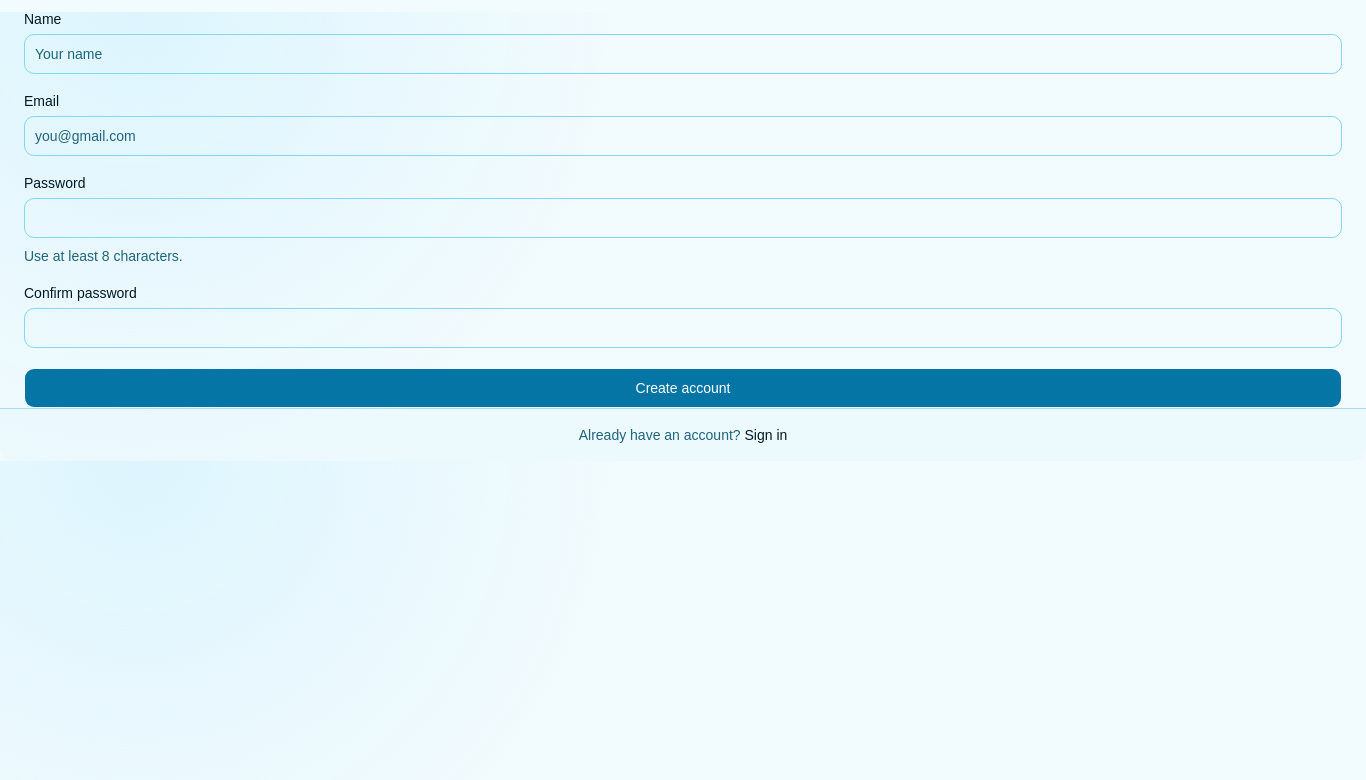
Test: AuthForm › Register mode › validates required name field
Click the button "Create account".
click(683, 388)  # box [24,368,1342,408]
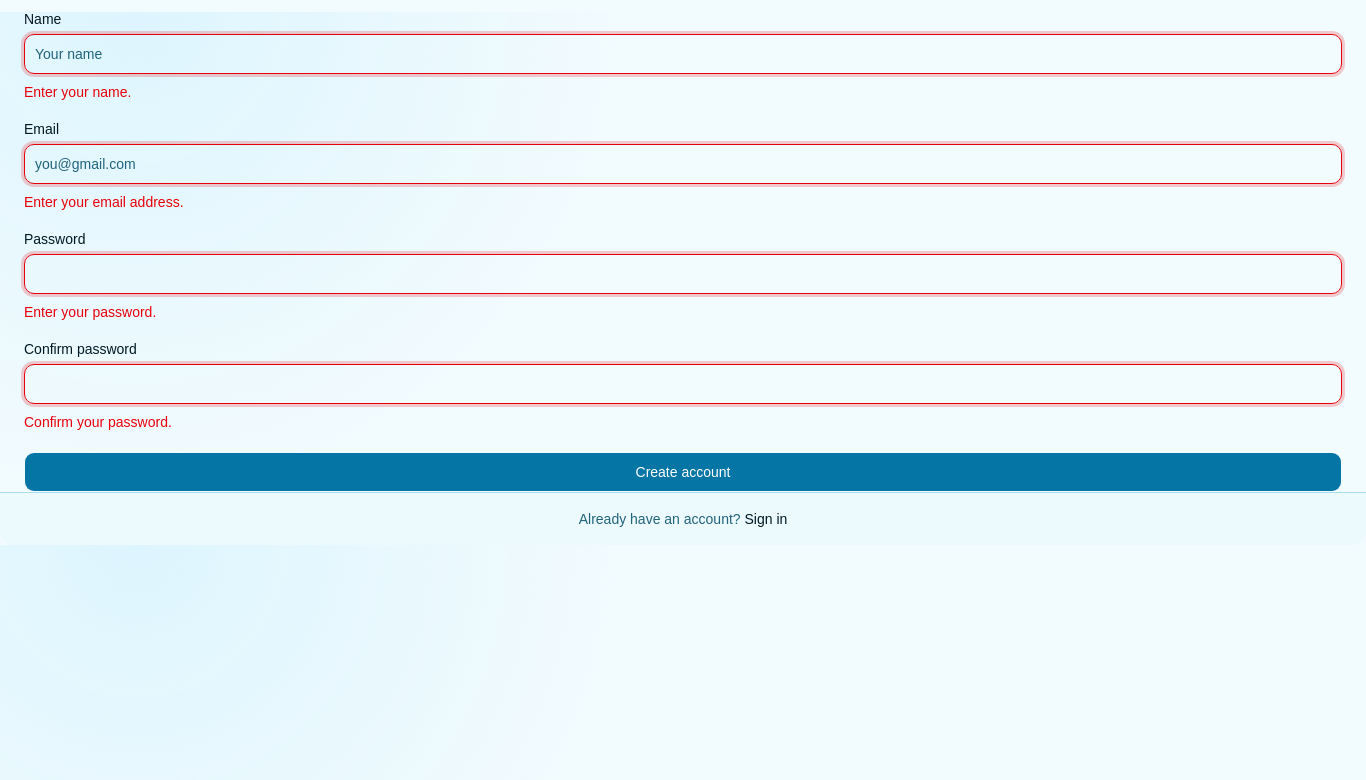
Result: the text "Enter your name." is shown at [24,84,131,100]
